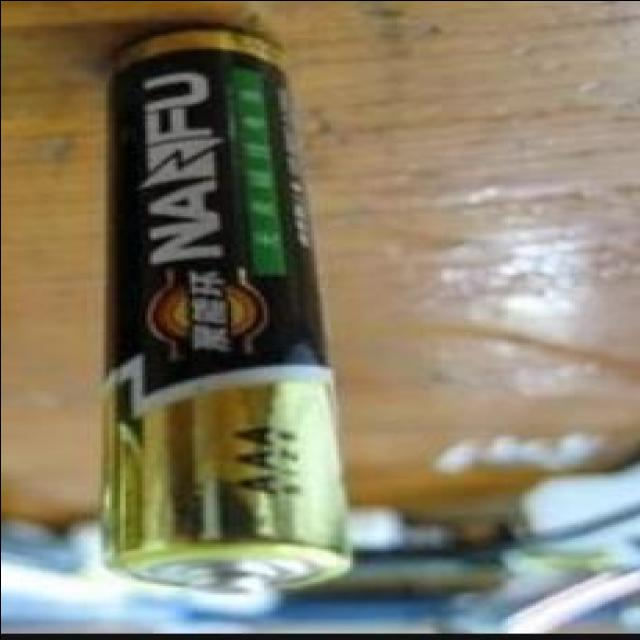-Hazardous waste - battery-: (84, 24, 352, 600)
